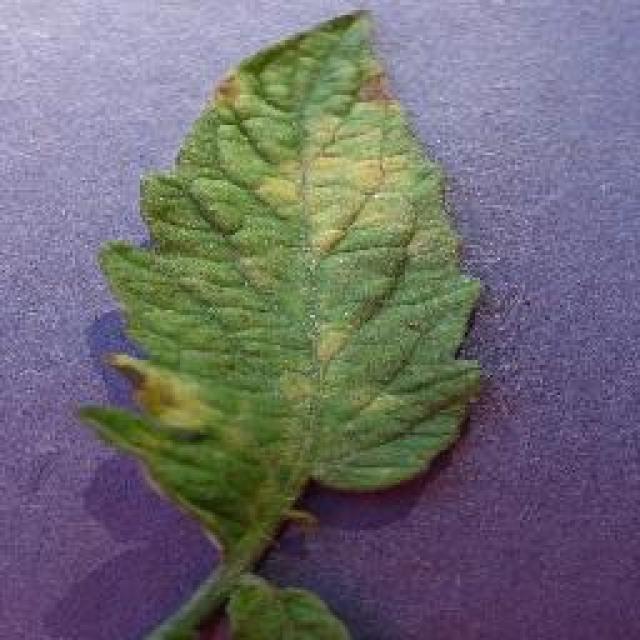Tom_Leaf_Mold: (220, 64, 416, 258), (111, 340, 218, 441)
